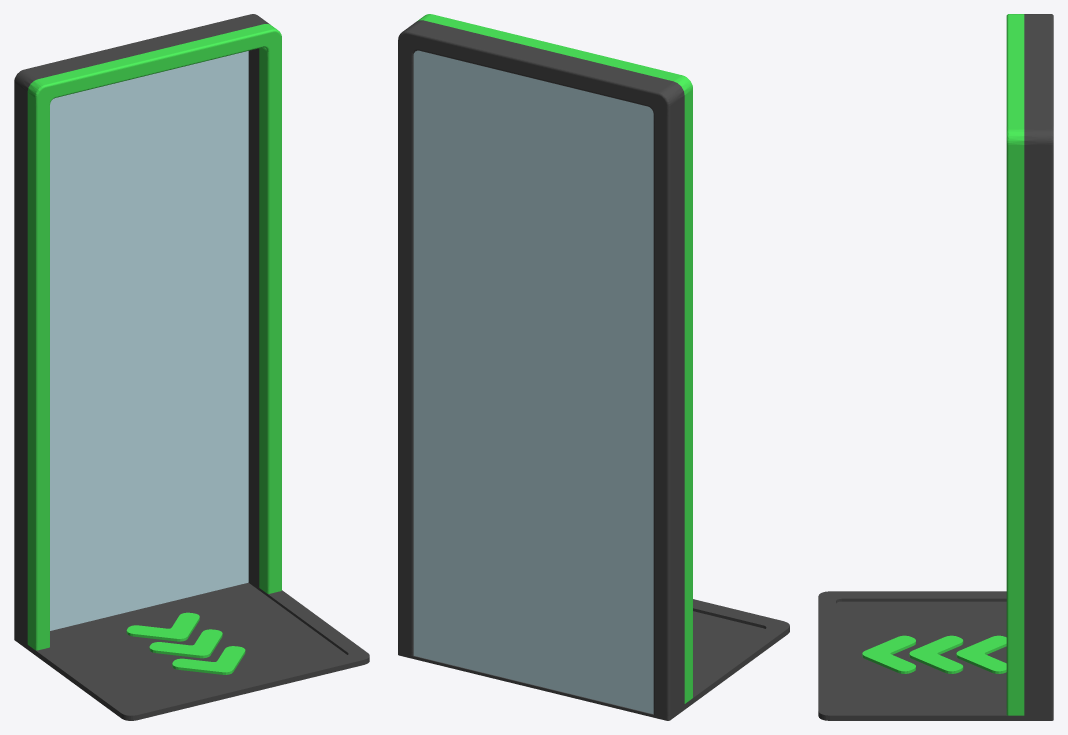
File: door_incoming.fbx
The picture shows the model from 3 angles, left to right: view 1: azimuth 30°, elevation 25°; view 2: azimuth 150°, elevation 25°; view 3: azimuth 270°, elevation 25°; orthographic projection. The views are drawn at different scales.
Parts seen in each view (by area): view 1: 개체_1, 개체_5, 개체_7, 개체_6, 개체_4, 개체_3, 개체_2; view 2: 개체_1, 개체_6, 개체_5, 개체_7; view 3: 개체_7, 개체_6, 개체_5, 개체_3, 개체_2, 개체_4.
Part boxes in pixels (left/top/right/bottom): 개체_1: left=50, top=51, right=248, bottom=630; 개체_5: left=27, top=24, right=281, bottom=650; 개체_7: left=14, top=580, right=369, bottom=720; 개체_6: left=14, top=14, right=270, bottom=644; 개체_4: left=126, top=612, right=199, bottom=641; 개체_3: left=149, top=629, right=222, bottom=658; 개체_2: left=172, top=646, right=245, bottom=674; 개체_1: left=413, top=50, right=653, bottom=714; 개체_6: left=398, top=20, right=684, bottom=715; 개체_5: left=416, top=14, right=692, bottom=703; 개체_7: left=398, top=599, right=789, bottom=720; 개체_7: left=818, top=591, right=1053, bottom=720; 개체_6: left=1024, top=14, right=1053, bottom=715; 개체_5: left=1006, top=14, right=1024, bottom=715; 개체_3: left=909, top=635, right=963, bottom=673; 개체_2: left=862, top=635, right=915, bottom=673; 개체_4: left=956, top=635, right=1006, bottom=673.
Bounding box in the file's own units: 500 × 1100 × 400.
